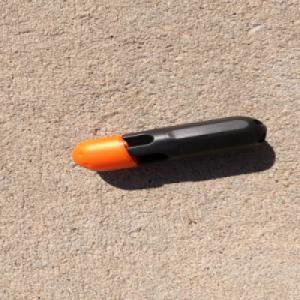PlasticPart: (70, 114, 268, 172)
